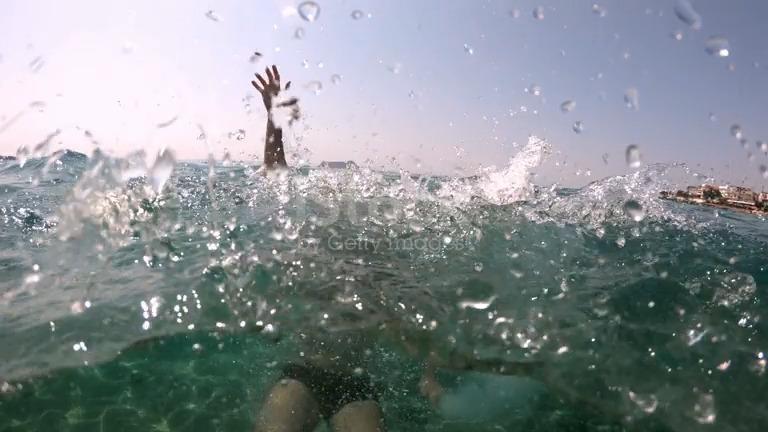Drowning: (84, 34, 529, 313)
